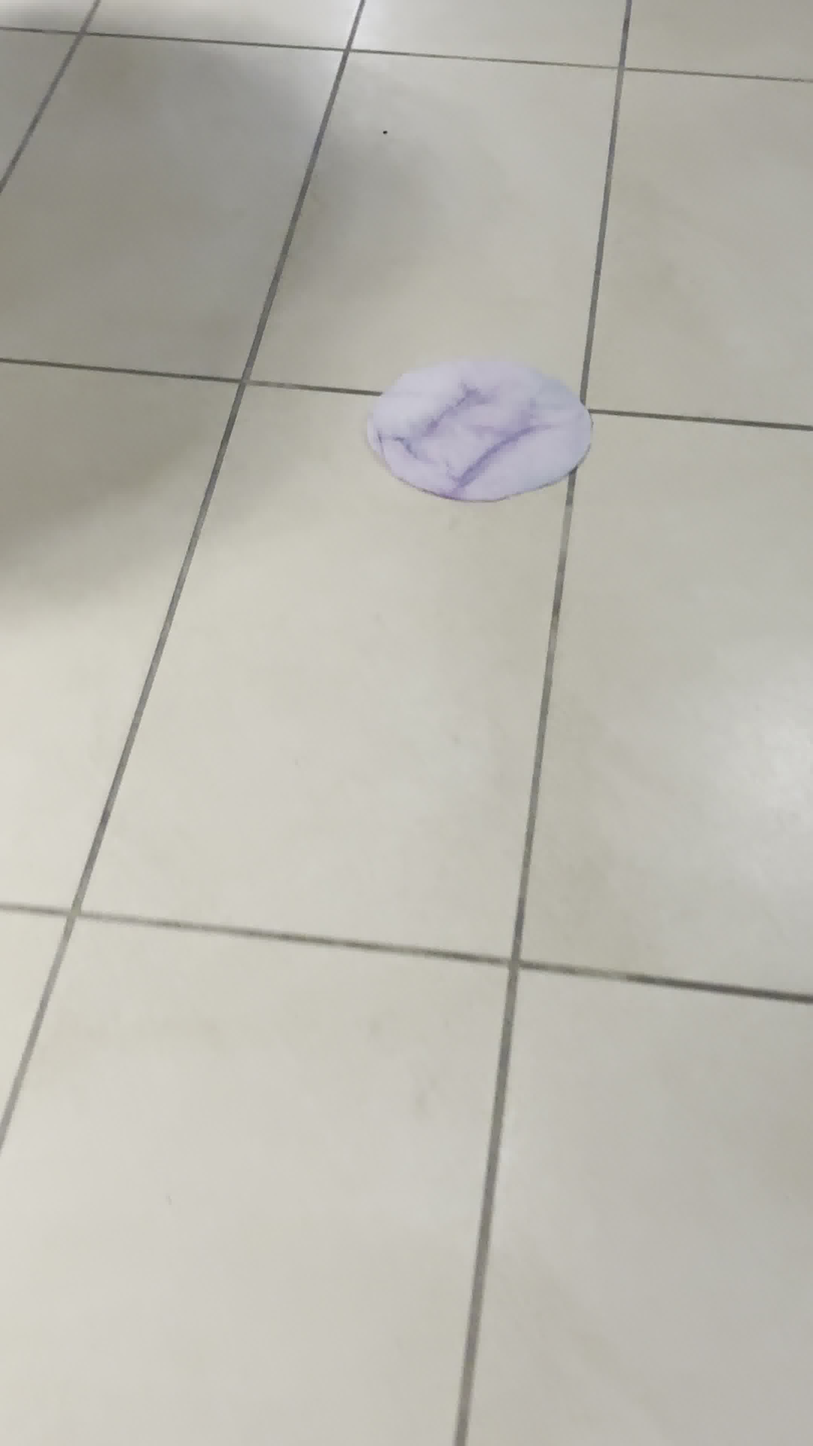Target: (368, 355, 591, 505)
